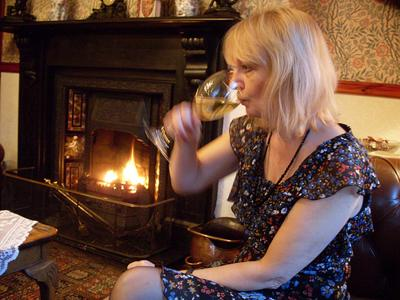person: (105, 4, 375, 300)
